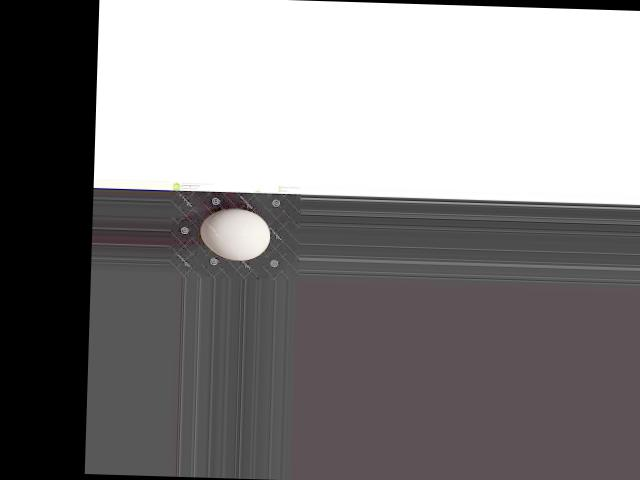egg: (199, 207, 271, 261)
